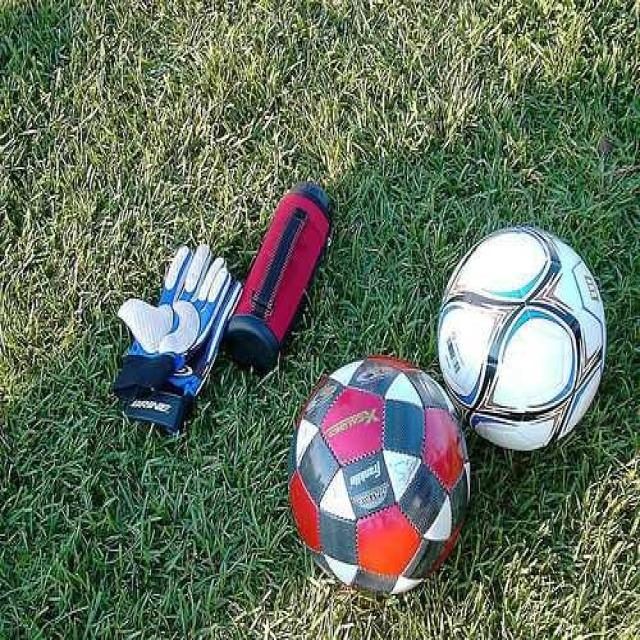ball: (290, 357, 471, 596), (438, 225, 607, 454)
